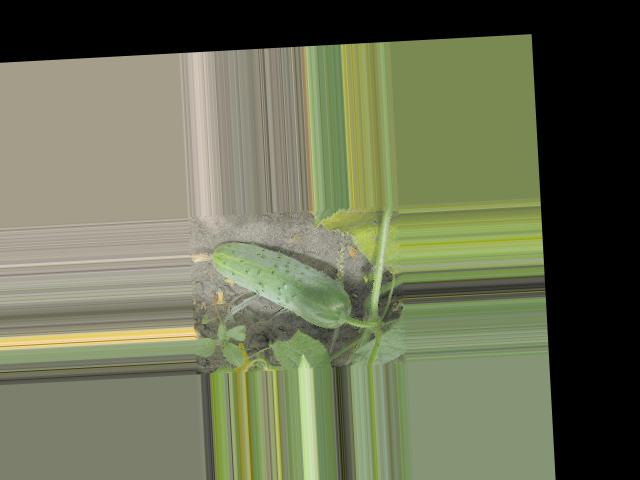cucumber: (189, 234, 352, 335)
